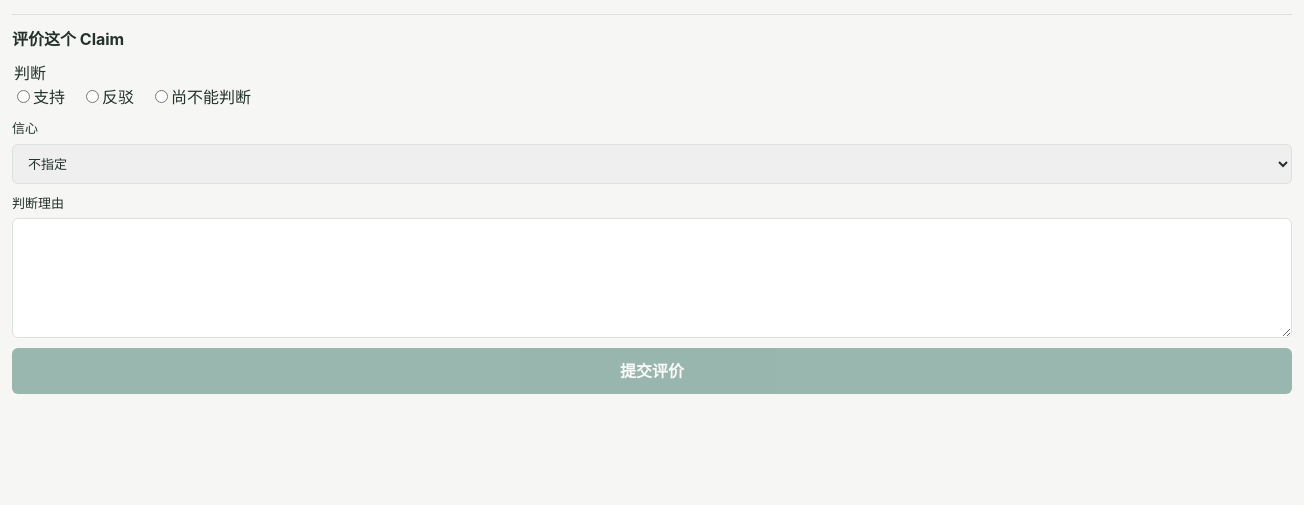
Test: successful create/replay › visible=false replay confirms prior success without displaying protected content
Click the radio button labelled "支持".
click(24, 96)  # box [17,90,30,103]
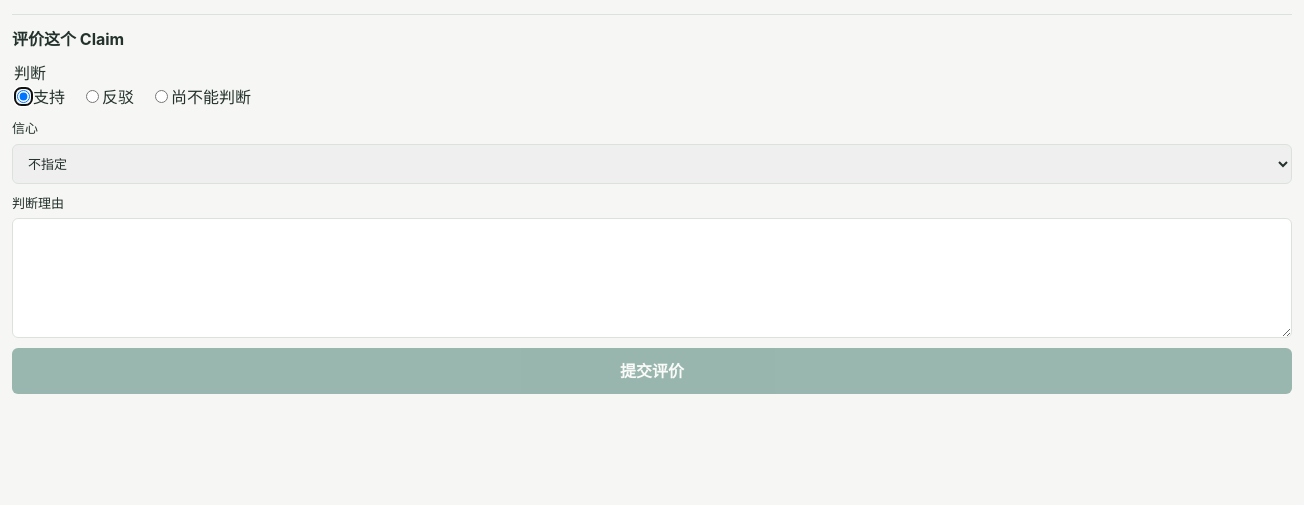
Type "当前证据支持。" into the text box labelled "判断理由".
click(652, 278); type("当前证据支持。")  # box [12,218,1292,338]
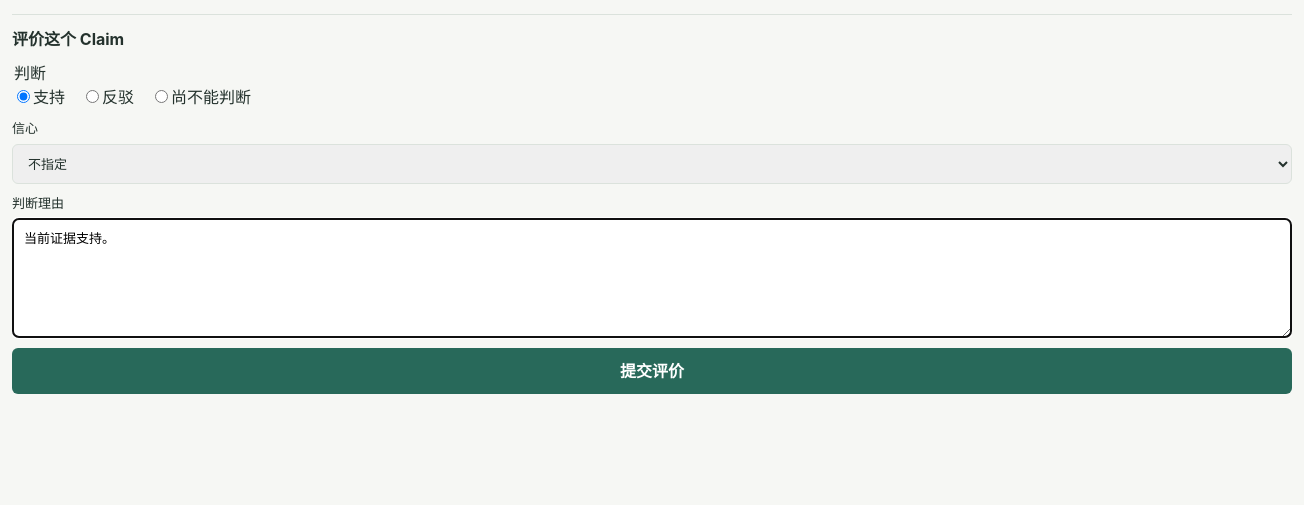
Click the button "提交评价".
click(652, 370)  # box [12,348,1292,394]
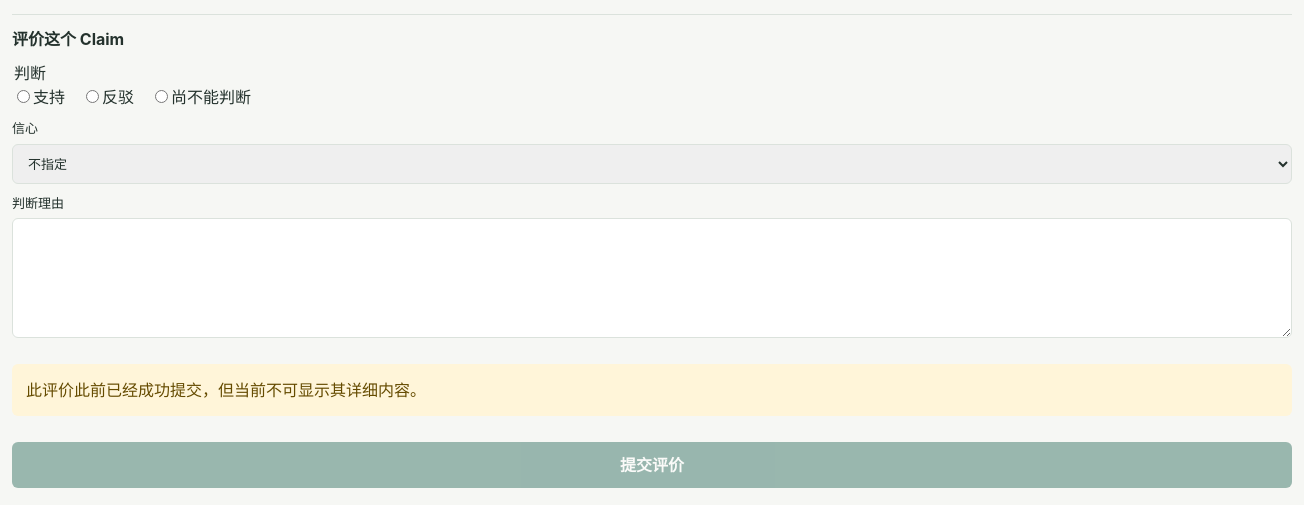
Expected: the text "此评价此前已经成功提交，但当前不可显示其详细内容。" is shown, [12,364,1292,416]
